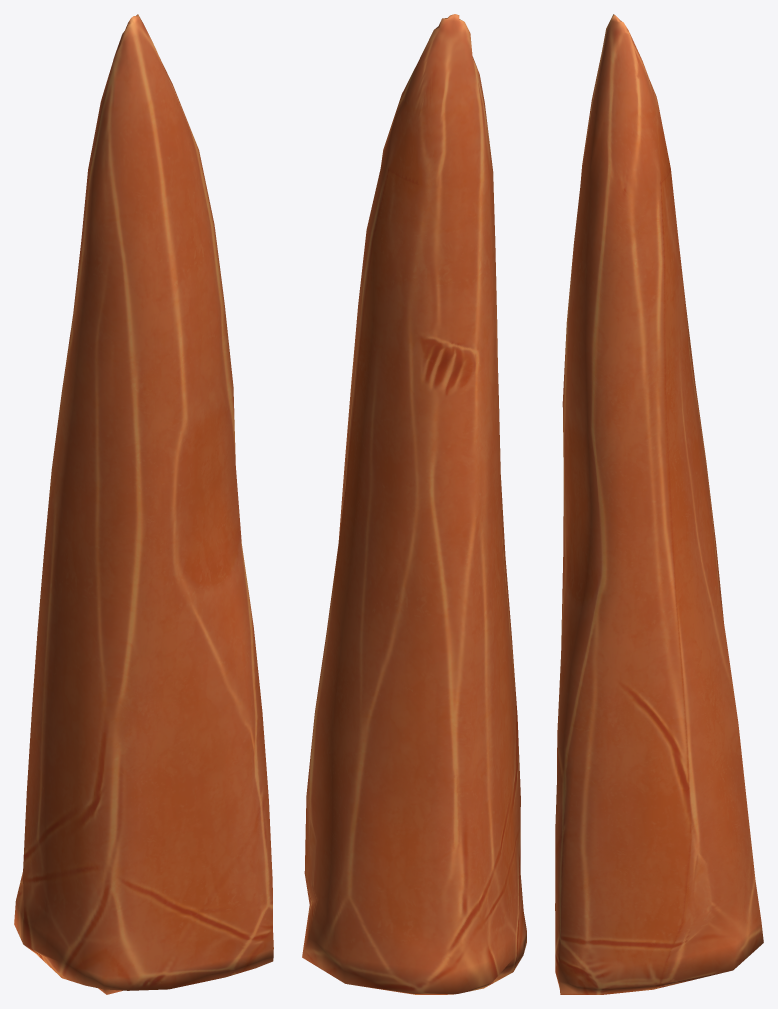
File: rockSpike_01.fbx
3 views of the same model, side by side, from view 1: azimuth 30°, elevation 25°; view 2: azimuth 150°, elevation 25°; view 3: azimuth 270°, elevation 25° (orthographic). The views are drawn at different scales.
Parts seen in each view (by area): view 1: rockSpike_01; view 2: rockSpike_01; view 3: rockSpike_01.
Boxes of the visible parts, left/top/right/bottom form: rockSpike_01: left=14, top=14, right=273, bottom=994; rockSpike_01: left=302, top=14, right=526, bottom=994; rockSpike_01: left=555, top=14, right=763, bottom=994.
Bounding box in the file's own units: 165 × 758 × 154.
1 material, 1 textured.
